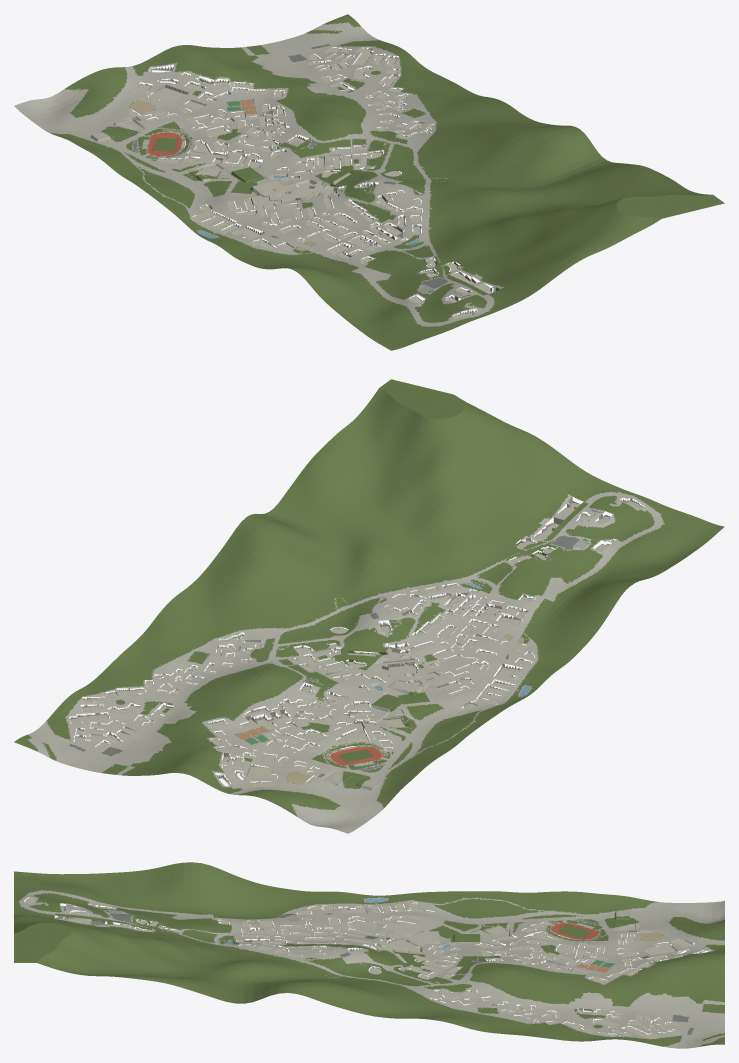
The picture shows the model from 3 angles, top to bottom: view 1: azimuth 30°, elevation 25°; view 2: azimuth 150°, elevation 25°; view 3: azimuth 270°, elevation 25°; orthographic projection. The views are drawn at different scales.
Visible parts, largest first — view 1: snu-wood, snu-base, snu-paving, snu-grass, snu-wood-overlay, snu-woodOver, snu-turf, snu-garden, snu-grass-overlay; view 2: snu-wood, snu-base, snu-paving, snu-grass, snu-woodOver, snu-wood-overlay, snu-turf, snu-garden, snu-grass-overlay; view 3: snu-wood, snu-base, snu-paving, snu-grass, snu-turf, snu-wood-overlay, snu-garden, snu-woodOver, snu-grass-overlay, snu-pitchTurf, snu-asphalt, snu-terracotta (+1 smaller).
Part boxes in pixels (<box>): snu-wood: <box>50,14,724,350</box>; snu-base: <box>14,22,504,326</box>; snu-paving: <box>100,47,493,318</box>; snu-grass: <box>100,71,487,295</box>; snu-wood-overlay: <box>50,22,502,326</box>; snu-woodOver: <box>231,165,440,279</box>; snu-turf: <box>233,144,425,192</box>; snu-garden: <box>138,167,194,207</box>; snu-grass-overlay: <box>100,71,486,295</box>; snu-wood: <box>14,379,724,816</box>; snu-base: <box>27,492,664,833</box>; snu-paving: <box>69,501,644,786</box>; snu-grass: <box>116,502,587,788</box>; snu-woodOver: <box>331,547,561,711</box>; snu-wood-overlay: <box>28,492,663,813</box>; snu-turf: <box>278,598,401,708</box>; snu-garden: <box>416,710,480,753</box>; snu-grass-overlay: <box>116,502,587,788</box>; snu-wood: <box>14,862,724,1046</box>; snu-base: <box>18,890,724,1048</box>; snu-paving: <box>26,897,691,1038</box>; snu-grass: <box>55,913,638,1028</box>; snu-turf: <box>310,934,479,986</box>; snu-wood-overlay: <box>18,890,724,1046</box>; snu-garden: <box>434,899,543,918</box>; snu-woodOver: <box>140,916,455,967</box>; snu-grass-overlay: <box>55,913,639,1028</box>; snu-pitchTurf: <box>450,925,591,1013</box>; snu-asphalt: <box>64,908,693,1034</box>; snu-terracotta: <box>390,930,422,945</box>.
Bounding box in the file's own units: 1296 × 375 × 2536.
40 materials, 25 textured.
